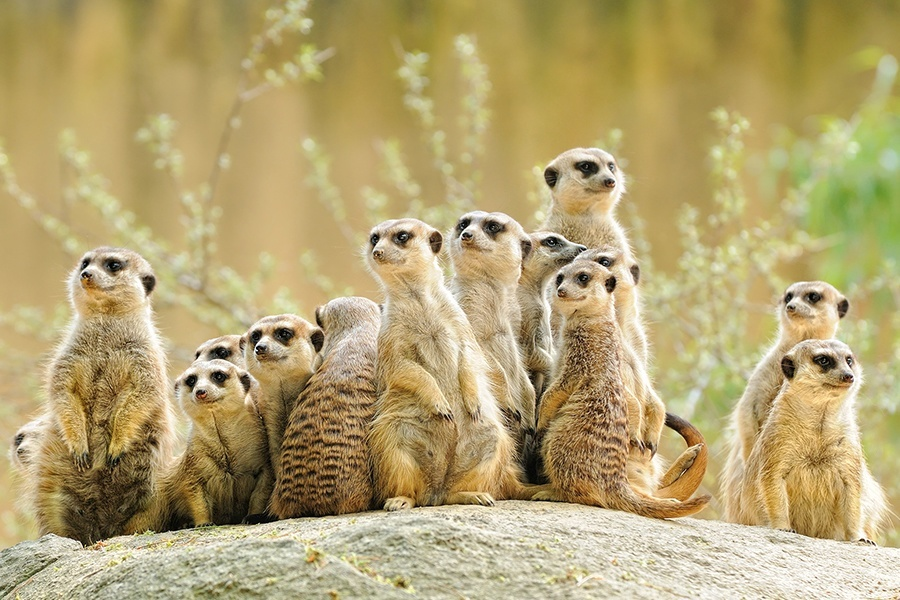meerkat: (350, 209, 518, 545), (44, 231, 186, 543), (536, 247, 684, 531), (746, 323, 886, 557)
